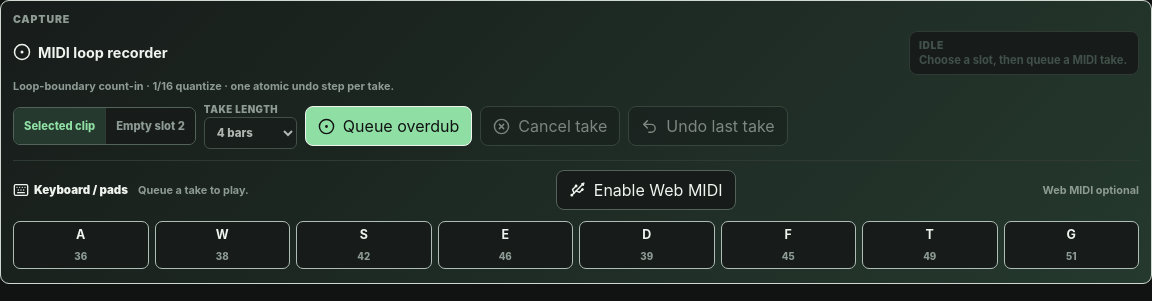
it: MidiRecorder › aligns a multi-bar overdub to the next active loop boundary
The width and height of the screenshot is (1152, 301).
Step 1. Click the button "Queue overdub" → (389, 126), box [305,106,472,146]
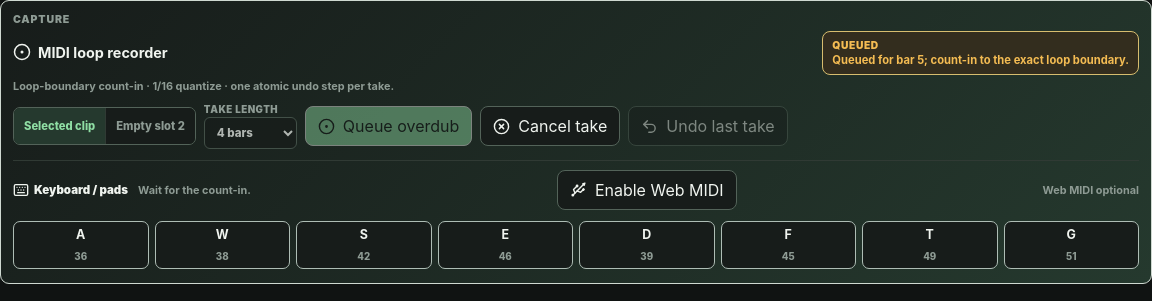
Expected: the text "Queued for bar 5; count-in to the exact loop boundary." is shown, [832,53,1129,67]
Step 2. Press a
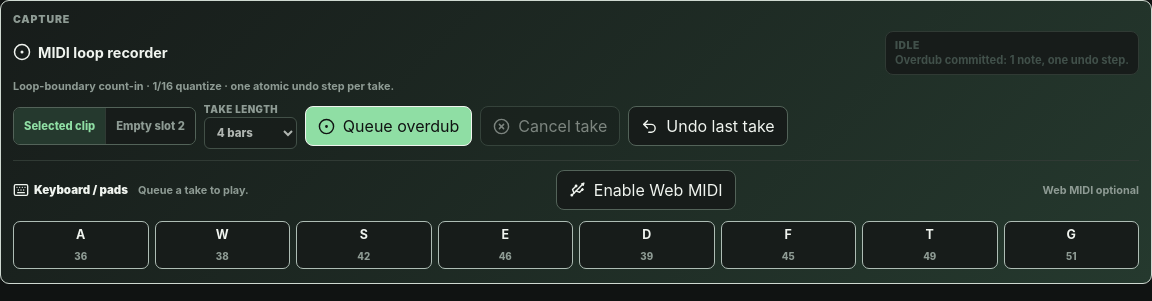
Expected: the text "Overdub committed: 1 note, one undo step." is shown, [895,53,1129,67]
Step 3. Click the button "Queue overdub" → (389, 126), box [305,106,472,146]
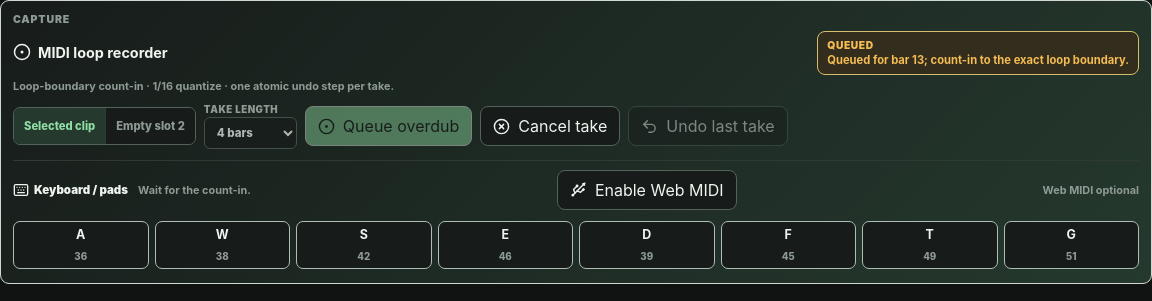
Step 4. Click the button "Cancel take" → (550, 126), box [480,106,620,146]
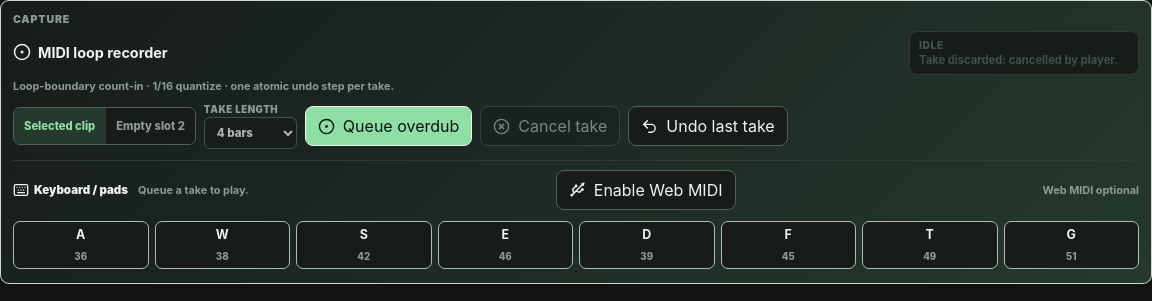
Expected: the button "Undo last take" is enabled, [628,106,788,146]
